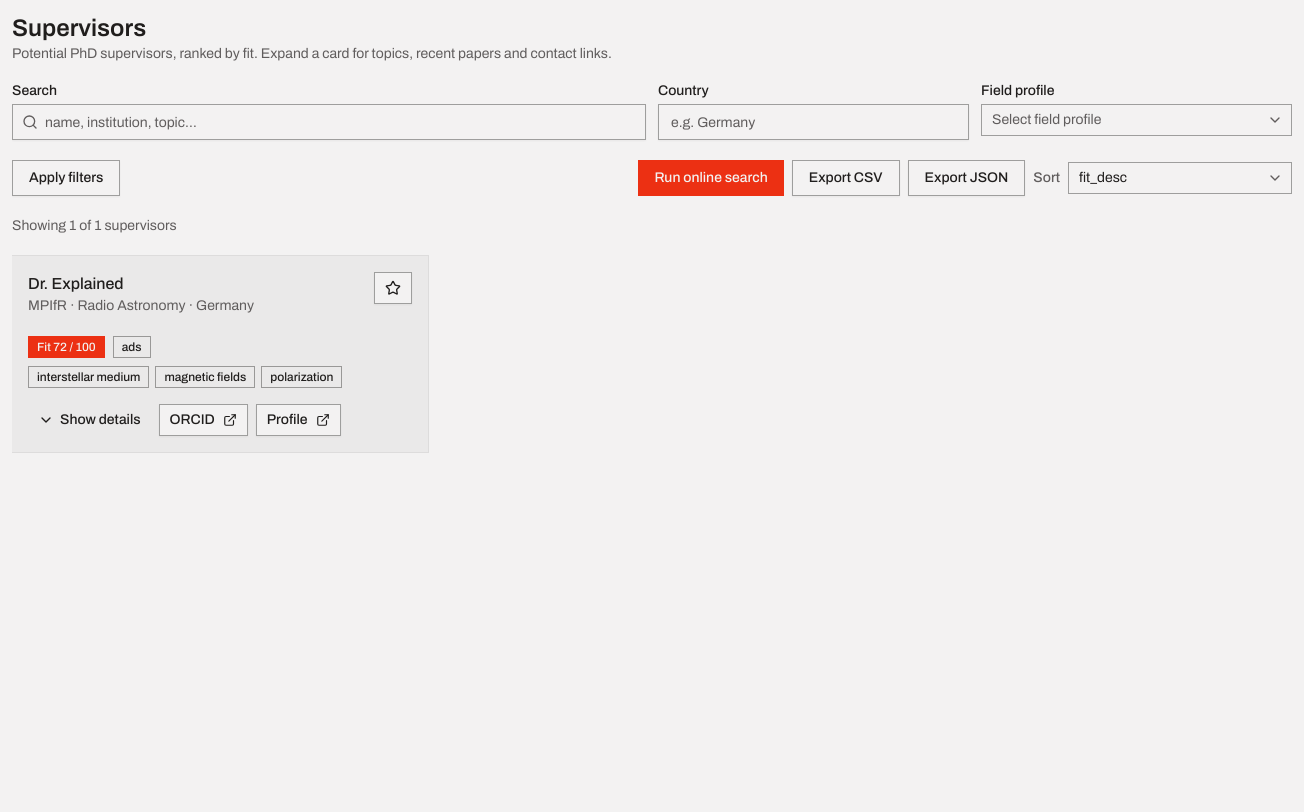
Test: SupervisorsPage — explainable fit + export parity (Phase 4) › never shows a bare number — expanding reveals the reasoning
Expected: the text "Dr. Explained" is shown, top-left (28, 275), bottom-right (124, 292)
Expected: the text with test id "fit-score" reads "Fit 72 / 100", top-left (28, 336), bottom-right (105, 358)
Click the button "Show details": point(89, 420) top-left (28, 404), bottom-right (151, 436)
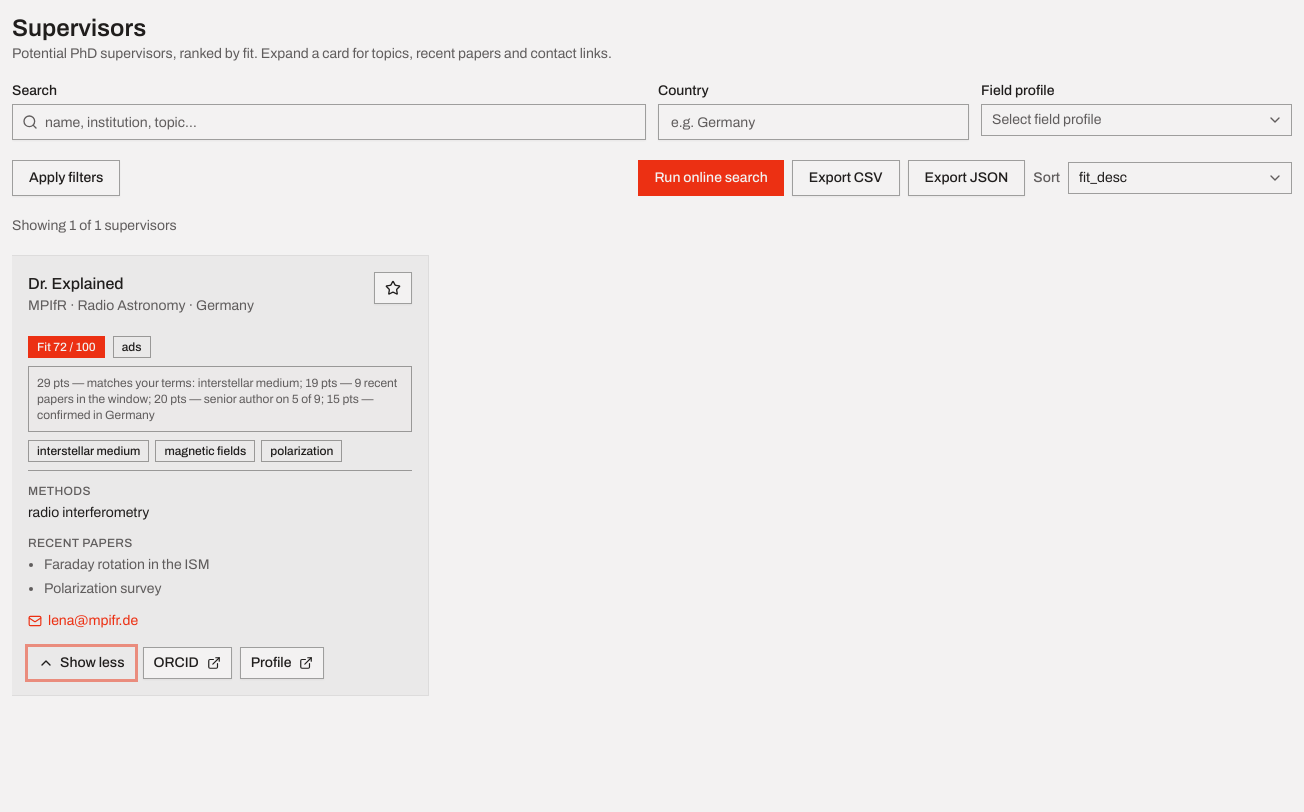
Expected: the text with test id "fit-explanation" shows "matches your terms: interstellar medium", top-left (37, 376), bottom-right (397, 422)
Expected: the text with test id "fit-explanation" shows "senior author on 5 of 9", top-left (37, 376), bottom-right (397, 422)
